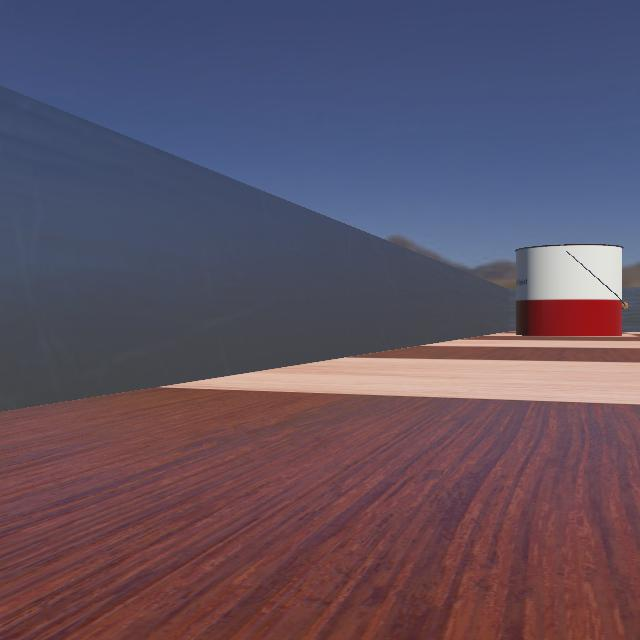paint-bucket: (502, 242, 640, 336)
